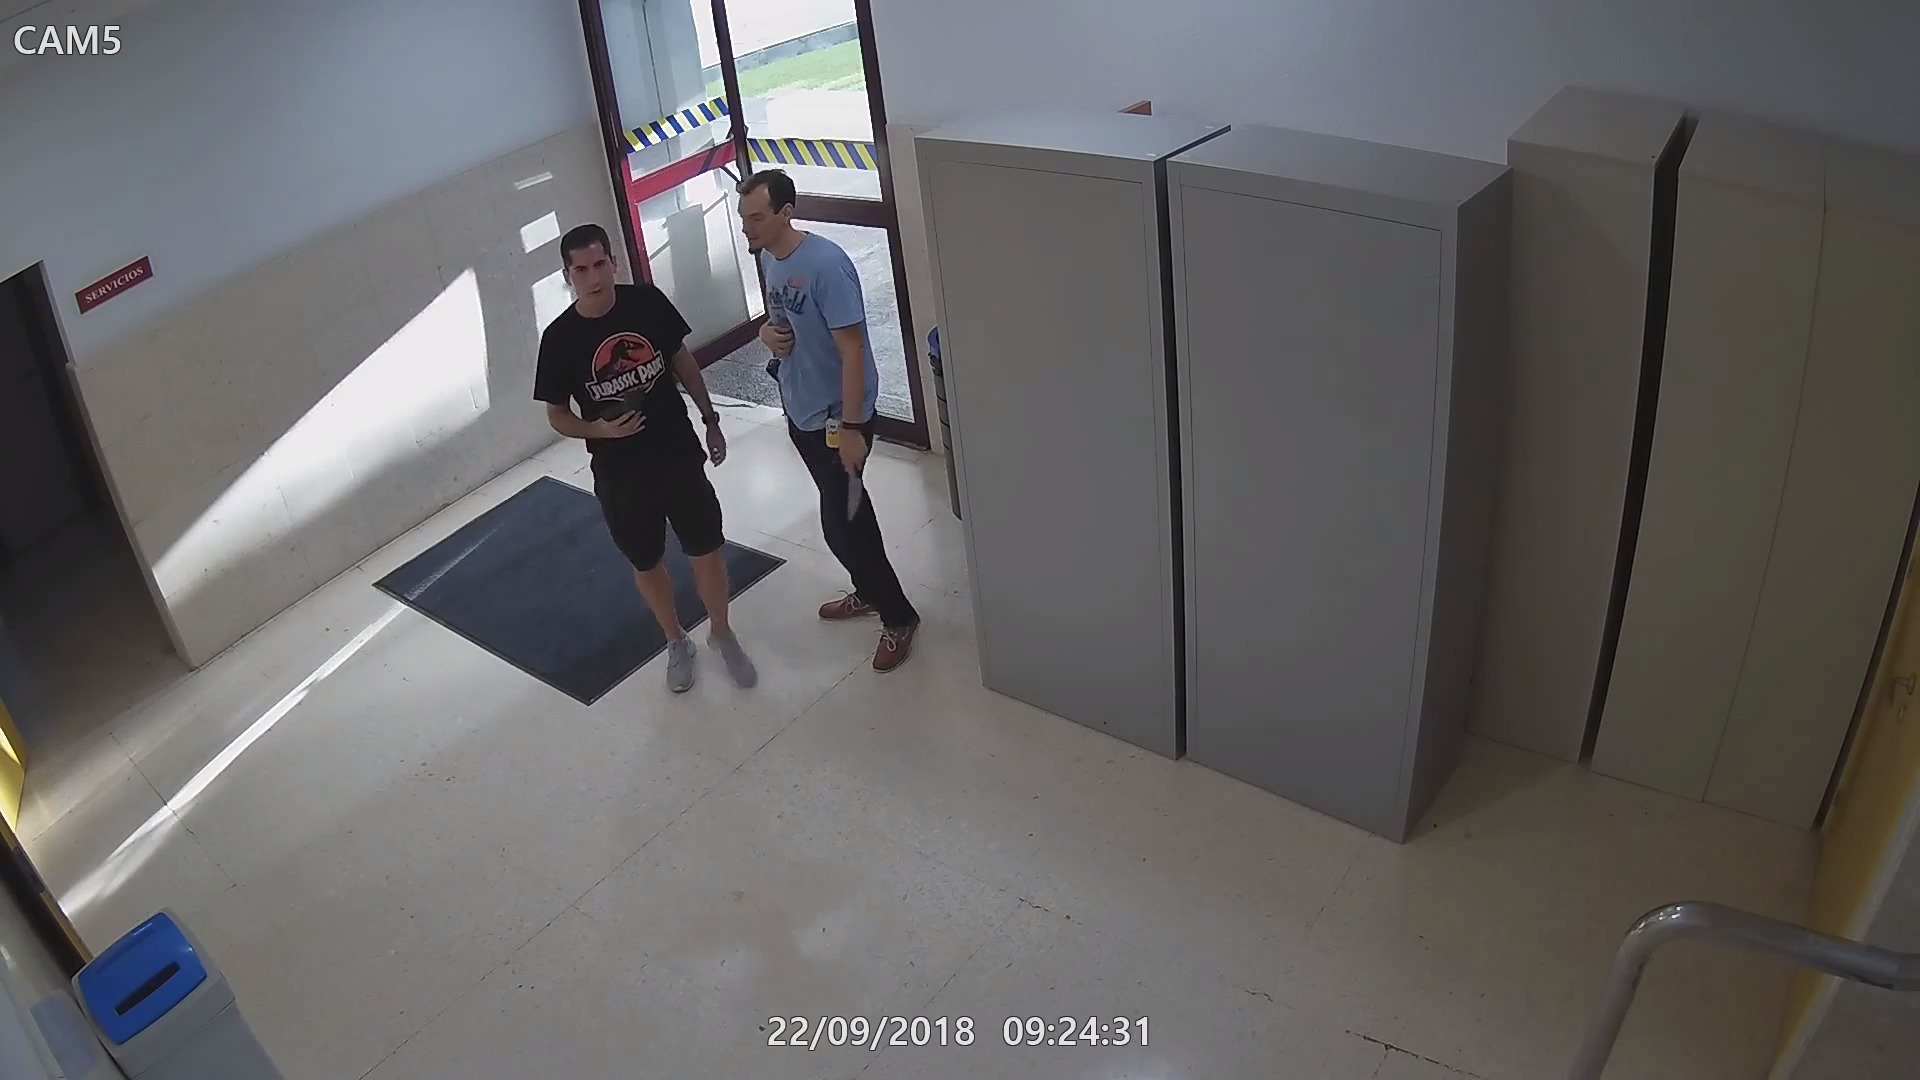Handgun: (592, 388, 657, 448), (756, 349, 782, 390)
Knife: (835, 429, 872, 531)
